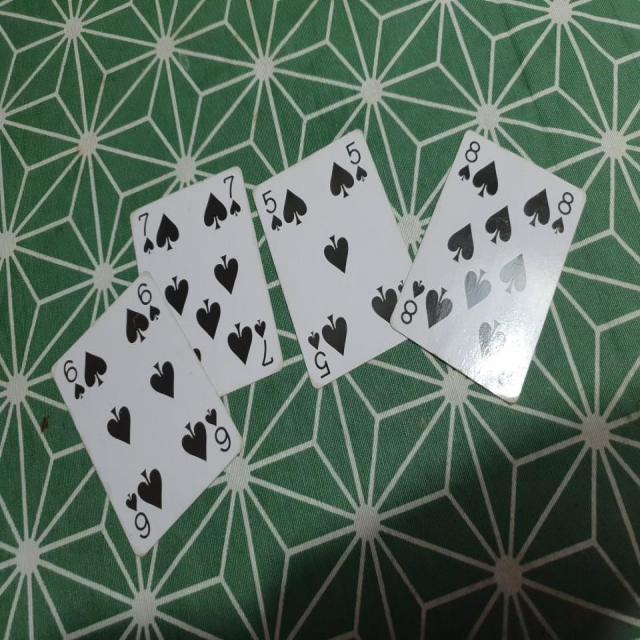5 Spades: (249, 128, 428, 398)
6 Spades: (46, 273, 247, 545)
7 Spades: (124, 165, 286, 393)
8 Spades: (387, 126, 592, 414)
